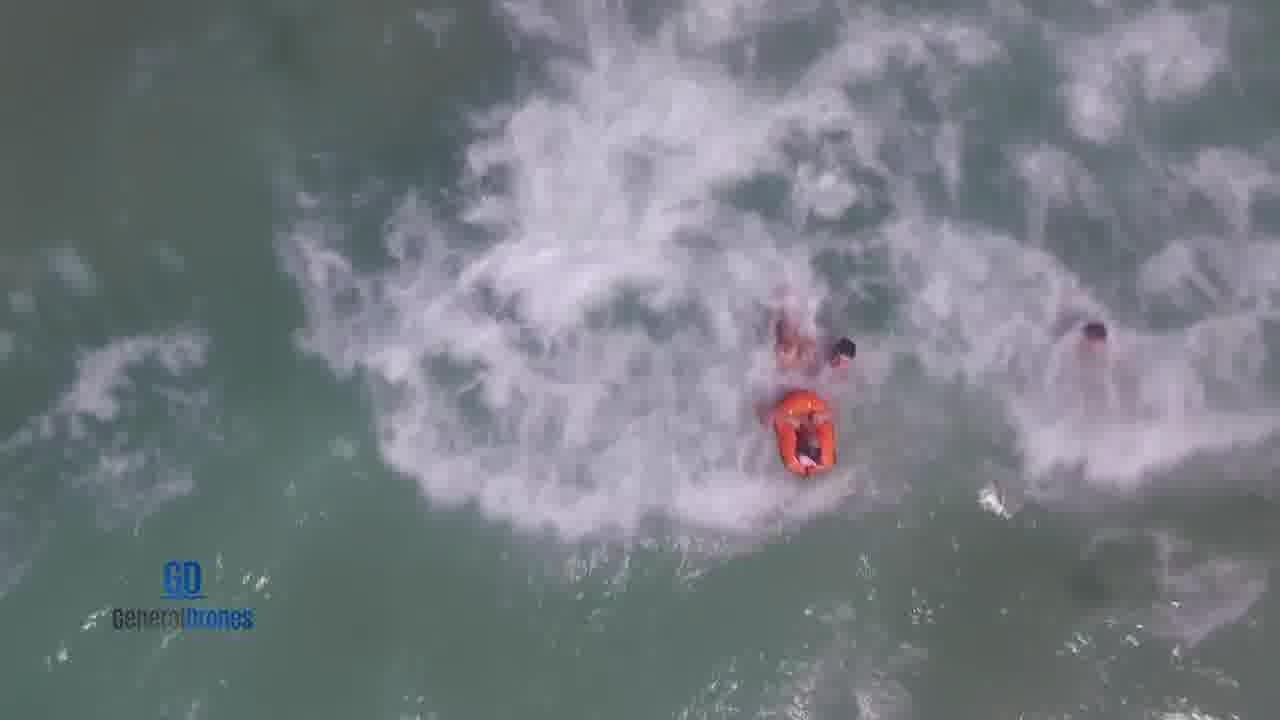swimmer: (764, 301, 836, 465), (811, 314, 886, 384), (1060, 305, 1133, 368)
